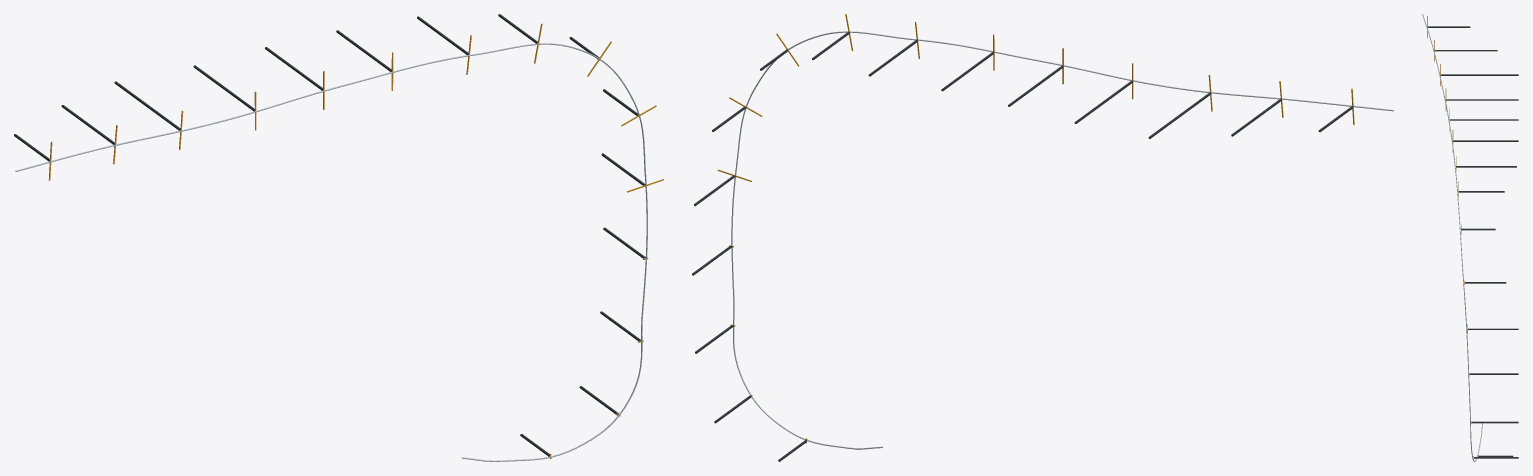
Rendered from rail_lane_c.obj.
3 renders of one model, left to right at view 1: azimuth 30°, elevation 25°; view 2: azimuth 150°, elevation 25°; view 3: azimuth 270°, elevation 25°, orthographic. The views are drawn at different scales.
Parts seen in each view (by area): view 1: rail_lane_c; view 2: rail_lane_c; view 3: rail_lane_c.
Boxes of the visible parts, left/top/right/bottom form: rail_lane_c: left=14, top=14, right=663, bottom=461; rail_lane_c: left=692, top=14, right=1393, bottom=461; rail_lane_c: left=1422, top=14, right=1518, bottom=461.
Bounding box in the file's own units: 129 × 86.45 × 26.5.
